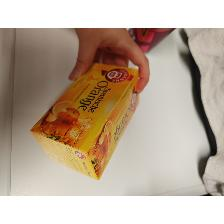Tee: (30, 60, 140, 182)
